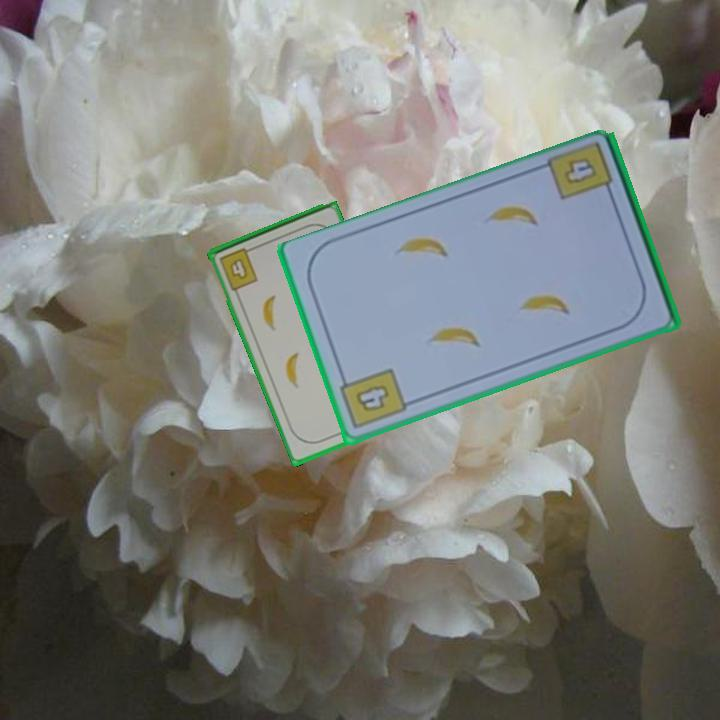4b: (336, 365, 410, 433), (216, 244, 261, 293), (559, 154, 600, 188)
